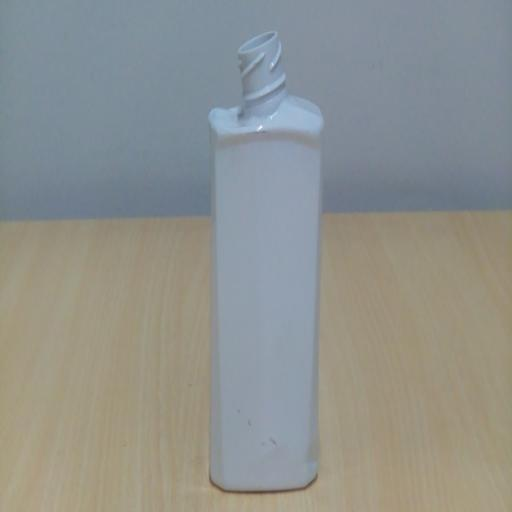Bad: (196, 22, 334, 504)
